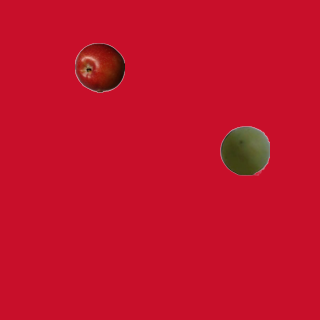Apple Braeburn: (74, 42, 124, 92)
Grape White 4: (219, 125, 269, 175)
